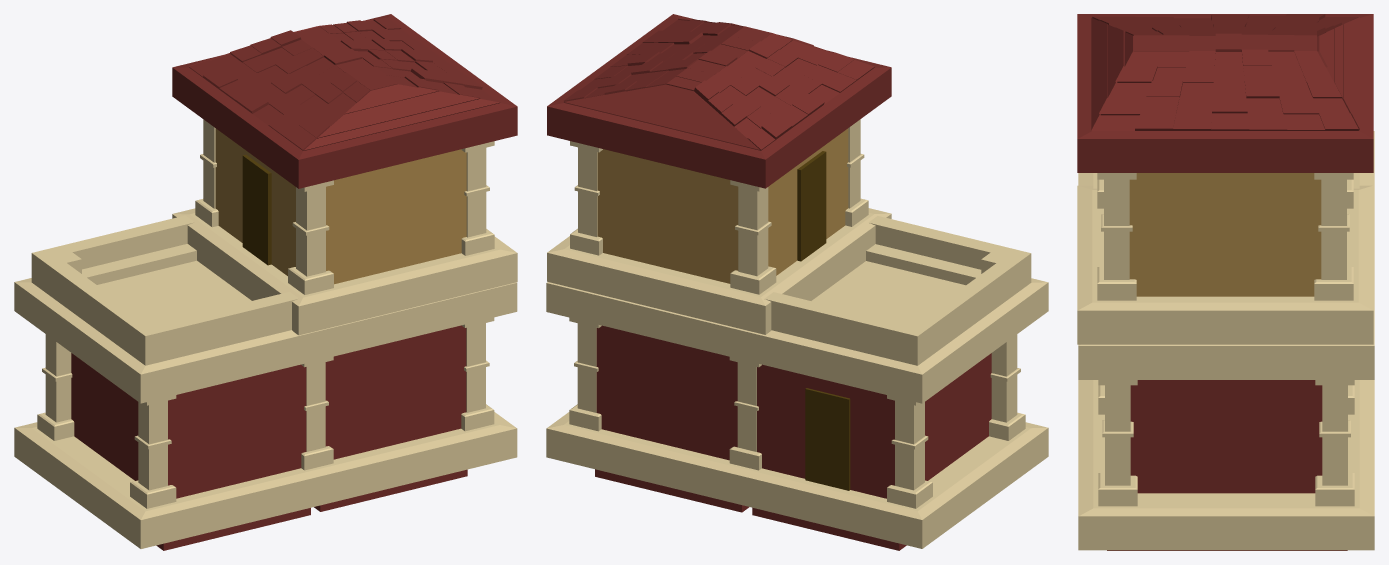
The model's file is BigHouseV1.fbx.
The picture shows the model from 3 angles, left to right: view 1: azimuth 30°, elevation 25°; view 2: azimuth 150°, elevation 25°; view 3: azimuth 270°, elevation 25°; orthographic projection. The views are drawn at different scales.
Parts seen in each view (by area): view 1: Cube.011; view 2: Cube.011; view 3: Cube.011.
Boxes of the visible parts, left/top/right/bottom form: Cube.011: left=14, top=14, right=517, bottom=550; Cube.011: left=546, top=14, right=1048, bottom=550; Cube.011: left=1077, top=14, right=1374, bottom=550.
Bounding box in the file's own units: 2579 × 2629 × 1505.
